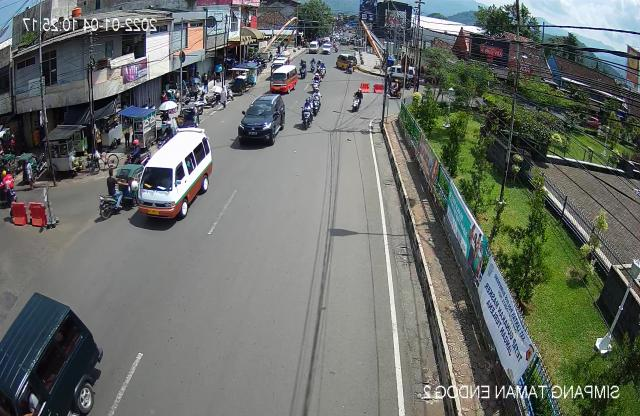Becak: (95, 157, 146, 224)
Mobil: (0, 288, 107, 415), (137, 124, 220, 229), (234, 93, 289, 156)
Motor: (297, 95, 314, 133), (349, 85, 363, 114), (310, 88, 322, 118)
